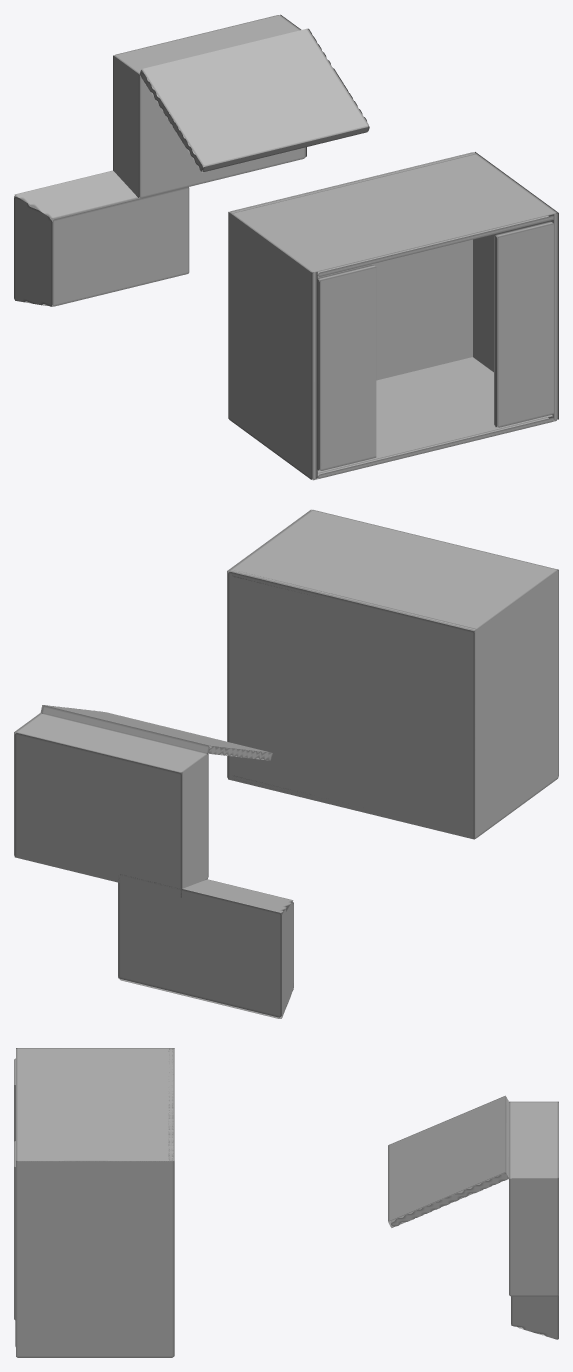
File: contents_books_misc_01_30.obj
3 views of the same model, one above another, from view 1: azimuth 30°, elevation 25°; view 2: azimuth 150°, elevation 25°; view 3: azimuth 270°, elevation 25° (orthographic). The views are drawn at different scales.
Visible parts, largest first — view 1: contents_books_misc_01_30; view 2: contents_books_misc_01_30; view 3: contents_books_misc_01_30.
Part boxes in pixels (bbox=[...]): contents_books_misc_01_30: bbox=[14, 14, 558, 480]; contents_books_misc_01_30: bbox=[14, 509, 558, 1018]; contents_books_misc_01_30: bbox=[14, 1048, 558, 1357].
Bounding box in the file's own units: 0.605 × 0.51 × 1.13.
1 material, 1 textured.
